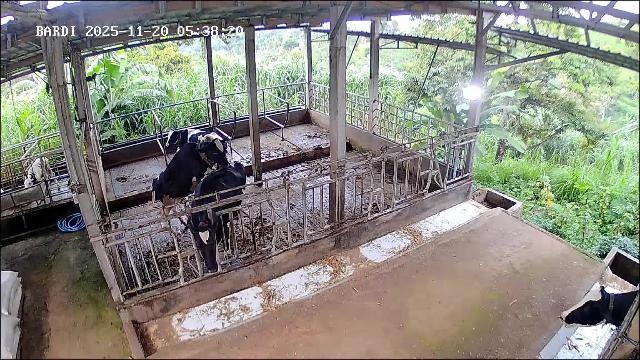mounting: (152, 139, 231, 212)
